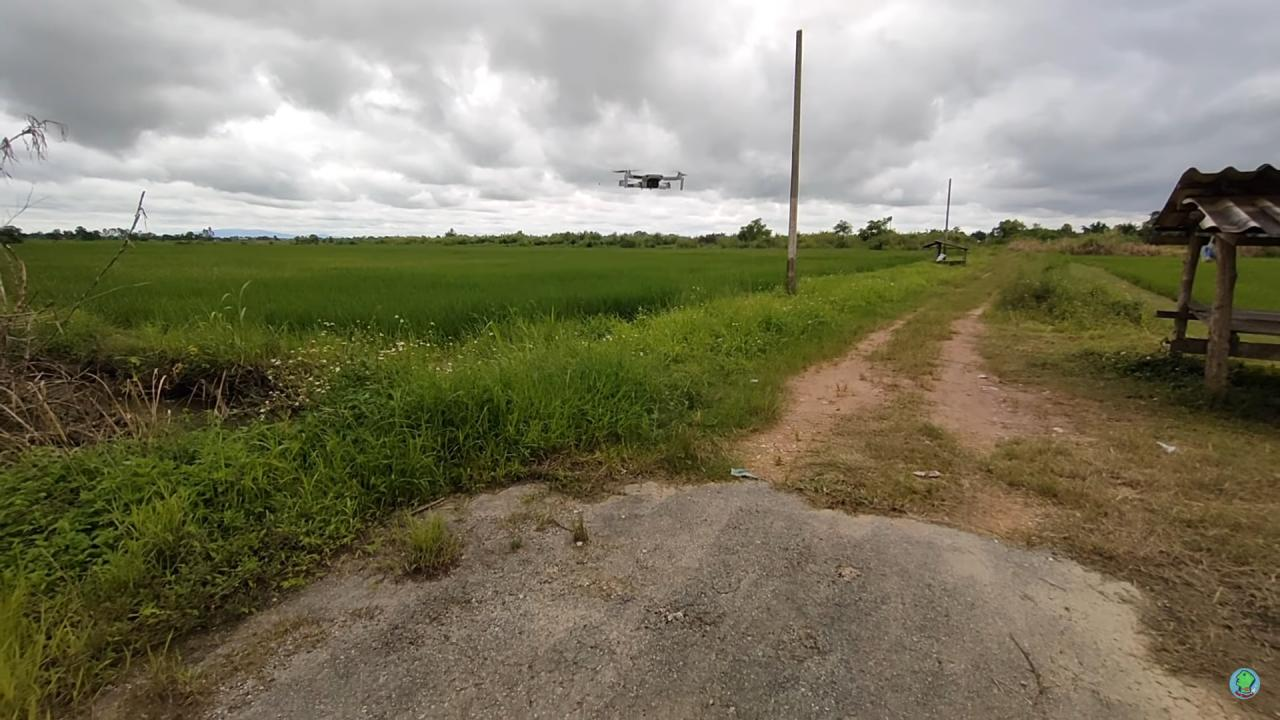Drone: (600, 158, 697, 200)
